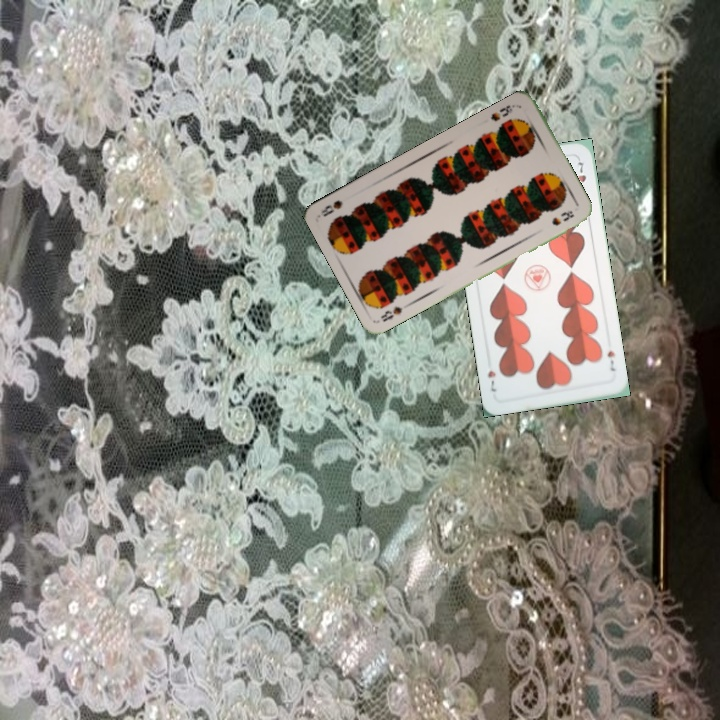H7: (603, 347, 617, 374)
S8: (377, 299, 414, 324), (487, 100, 521, 124)
